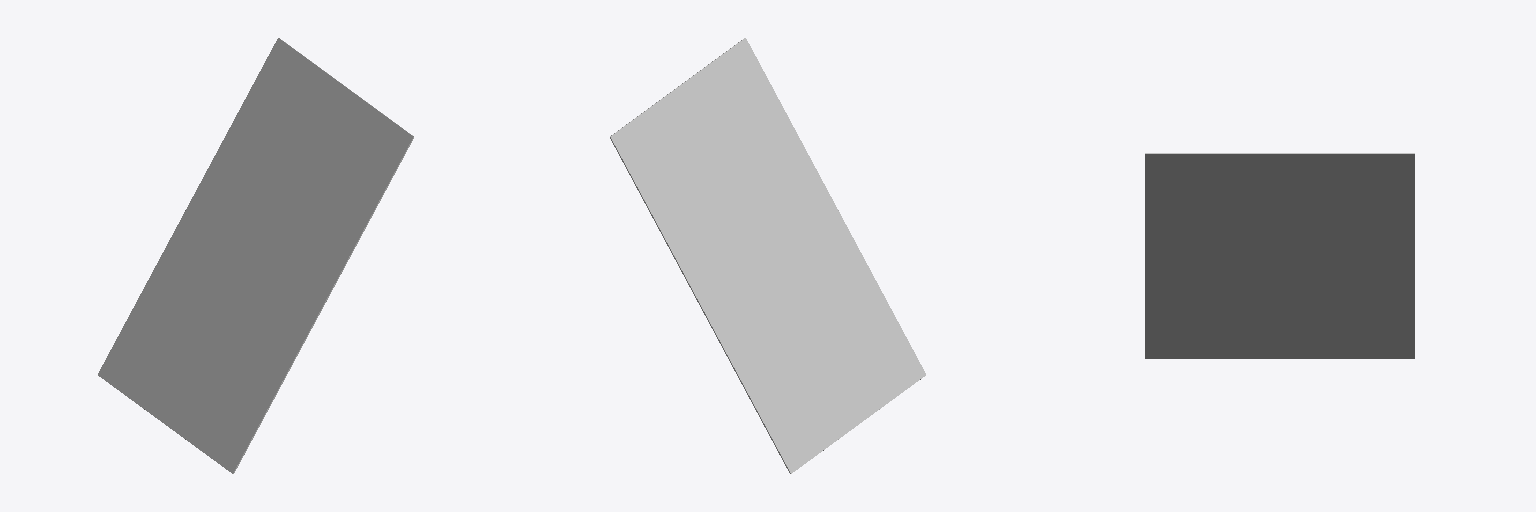
Rendered from couverture_001_Plane_002.obj.
The picture shows the model from 3 angles: view 1: azimuth 30°, elevation 25°; view 2: azimuth 150°, elevation 25°; view 3: azimuth 270°, elevation 25°; orthographic projection.
Parts seen in each view (by area): view 1: couverture.001_Plane.002; view 2: couverture.001_Plane.002; view 3: couverture.001_Plane.002.
Part boxes in pixels (bbox=[...]): couverture.001_Plane.002: bbox=[98, 38, 413, 473]; couverture.001_Plane.002: bbox=[610, 38, 925, 473]; couverture.001_Plane.002: bbox=[1145, 153, 1414, 358].
Size of the model in its own units: 2.25 by 3.48 by 2.91.